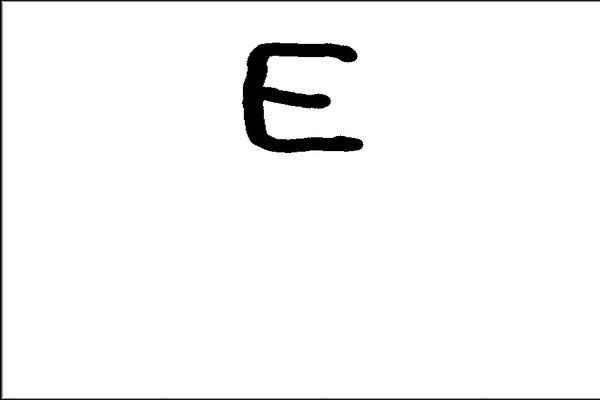E: (236, 38, 370, 159)
